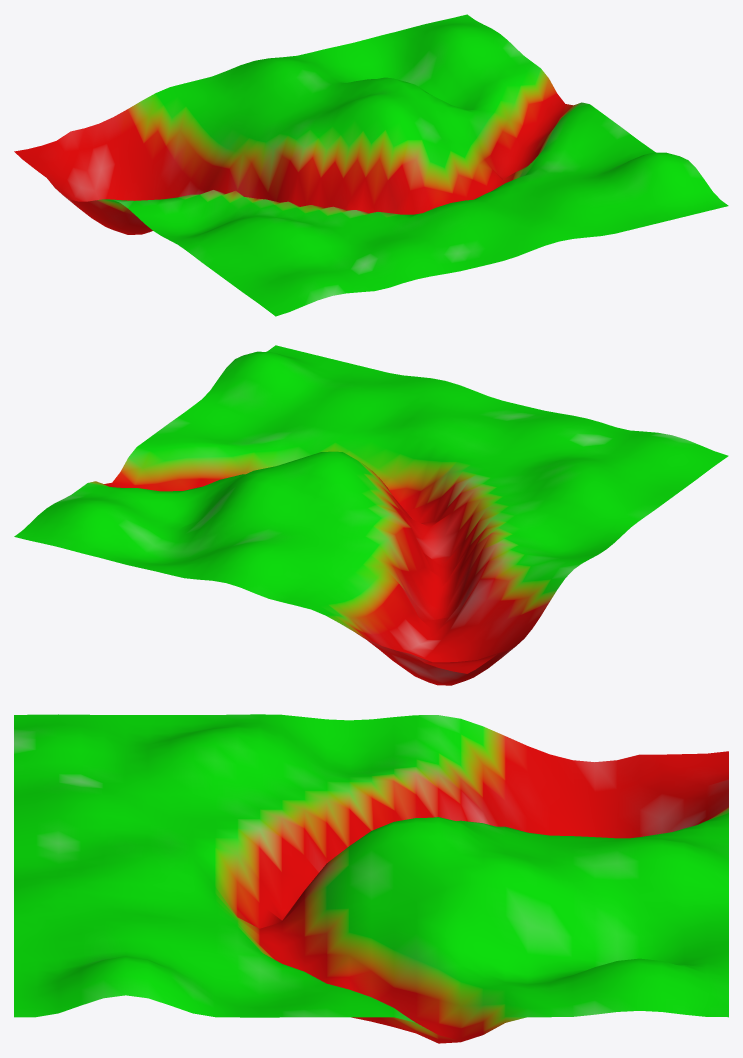
Rendered from MintTagForestTerrrainv2.fbx.
The picture shows the model from 3 angles, top to bottom: view 1: azimuth 30°, elevation 25°; view 2: azimuth 150°, elevation 25°; view 3: azimuth 270°, elevation 25°; orthographic projection. The views are drawn at different scales.
Visible parts, largest first — view 1: Plane; view 2: Plane; view 3: Plane.
Part boxes in pixels (x1,y1,x2,y2): Plane: (14,14,728,316); Plane: (14,345,728,685); Plane: (14,714,728,1043).
Bounding box in the file's own units: 43032 × 12111 × 43032.
